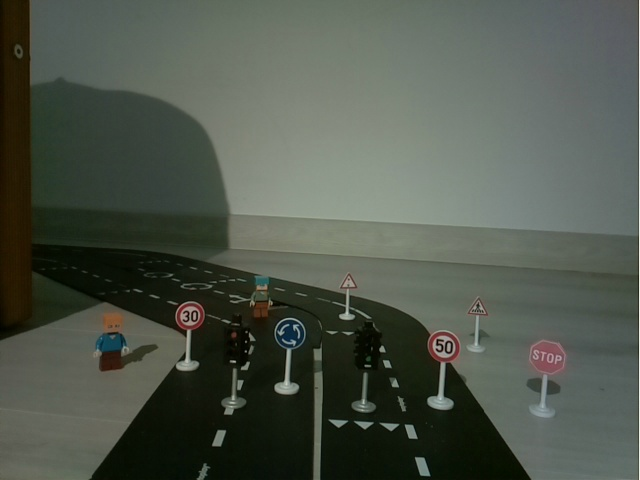green light: (354, 324, 384, 416)
limit 30: (167, 299, 209, 376)
limit 50: (426, 329, 460, 413)
pedestrian sign: (464, 294, 496, 355)
person: (89, 310, 135, 376)
red light: (217, 319, 252, 414)
round: (272, 319, 306, 399)
second person: (246, 270, 275, 319)
stop: (522, 334, 570, 422)
traffic light sign: (333, 267, 359, 322)
